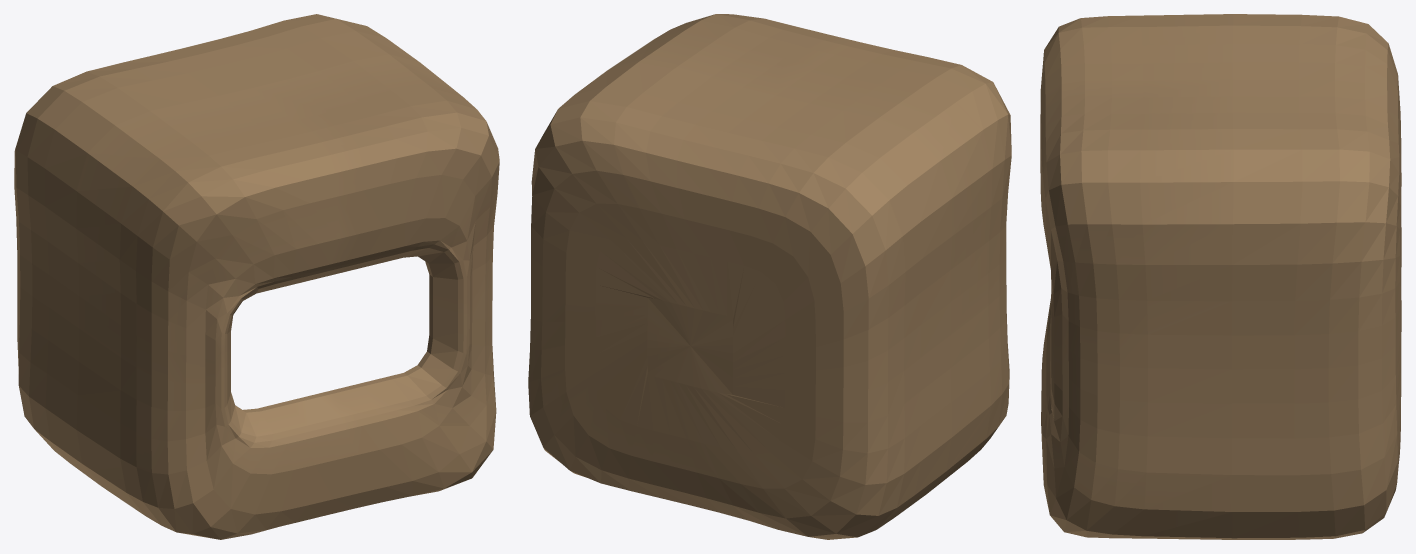
The picture shows the model from 3 angles, left to right: view 1: azimuth 30°, elevation 25°; view 2: azimuth 150°, elevation 25°; view 3: azimuth 270°, elevation 25°; orthographic projection. The views are drawn at different scales.
Parts seen in each view (by area): view 1: geometry_0; view 2: geometry_0; view 3: geometry_0.
Part boxes in pixels (bbox=[...]): geometry_0: bbox=[14, 14, 499, 539]; geometry_0: bbox=[528, 14, 1011, 539]; geometry_0: bbox=[1040, 14, 1401, 539].
Bounding box in the file's own units: 1.94 × 1.92 × 1.6.
